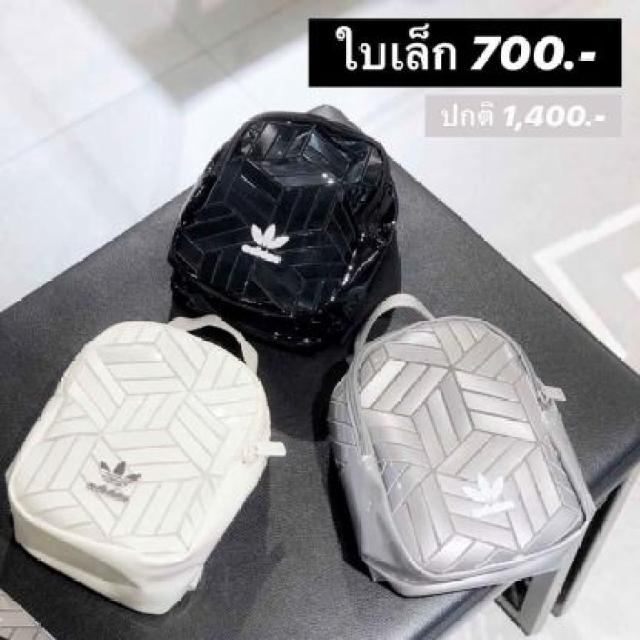Bag: (311, 270, 603, 602), (0, 298, 288, 613), (158, 81, 437, 377)
